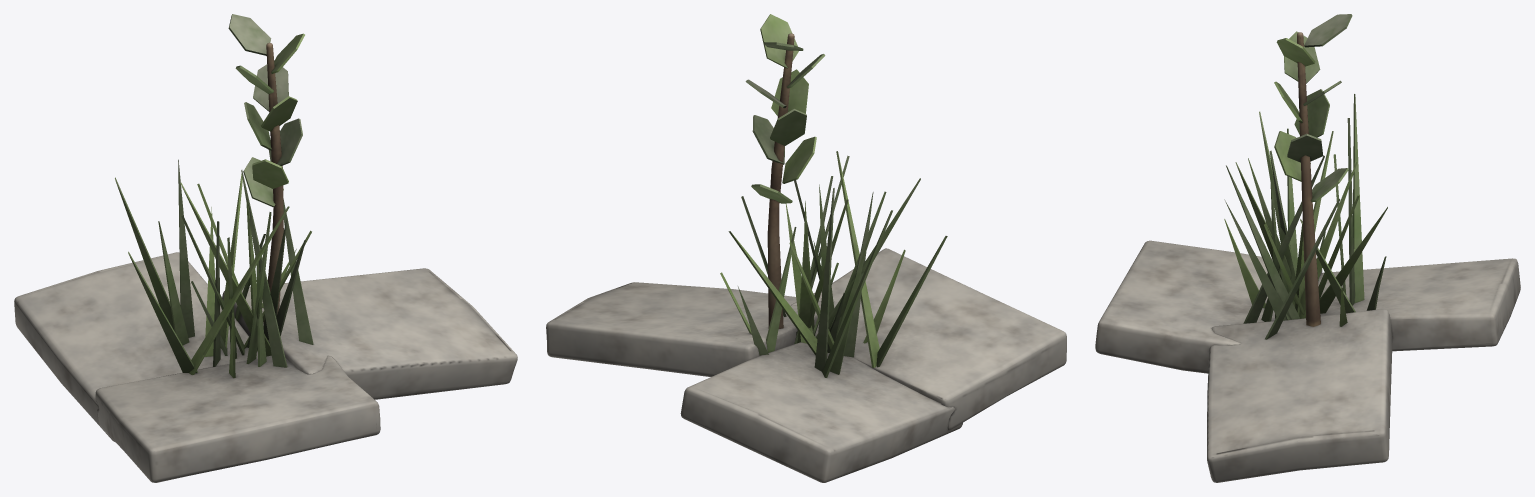
Rendered from weeds.fbx.
The picture shows the model from 3 angles, left to right: view 1: azimuth 30°, elevation 25°; view 2: azimuth 150°, elevation 25°; view 3: azimuth 270°, elevation 25°; orthographic projection.
Visible parts, largest first — view 1: Body; view 2: Body; view 3: Body.
Boxes of the visible parts, x1=… form: Body: x1=14, y1=14, x2=517, y2=482; Body: x1=546, y1=14, x2=1066, y2=482; Body: x1=1095, y1=14, x2=1520, y2=482.
Bounding box in the file's own units: 3.06 × 2.71 × 2.83.
1 material, 1 textured.
